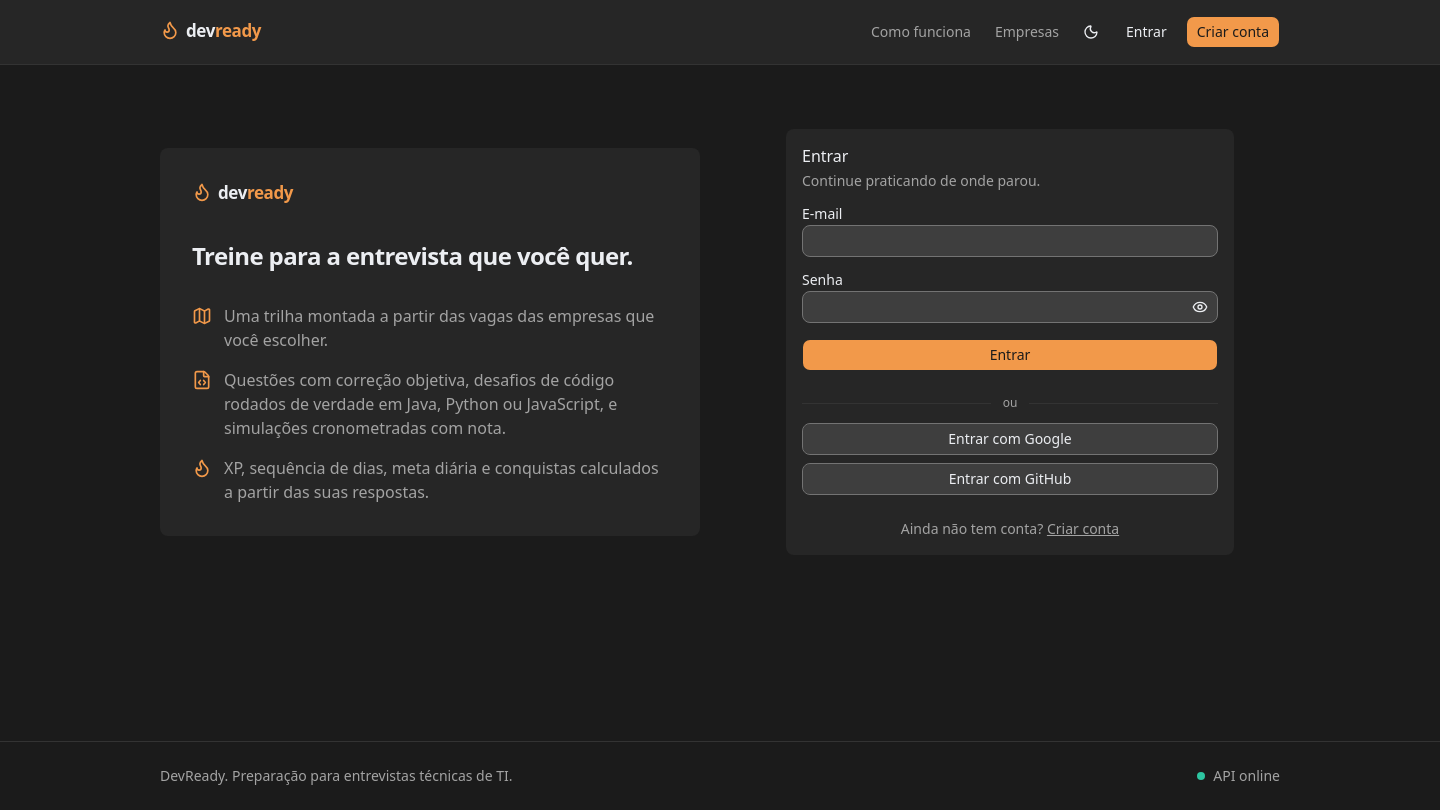
Test: LoginPage › avisa quando não consegue falar com o servidor
In the field labelled "E-mail": x=1010, y=241 [802, 225, 1218, 257], type "ana@example.com"
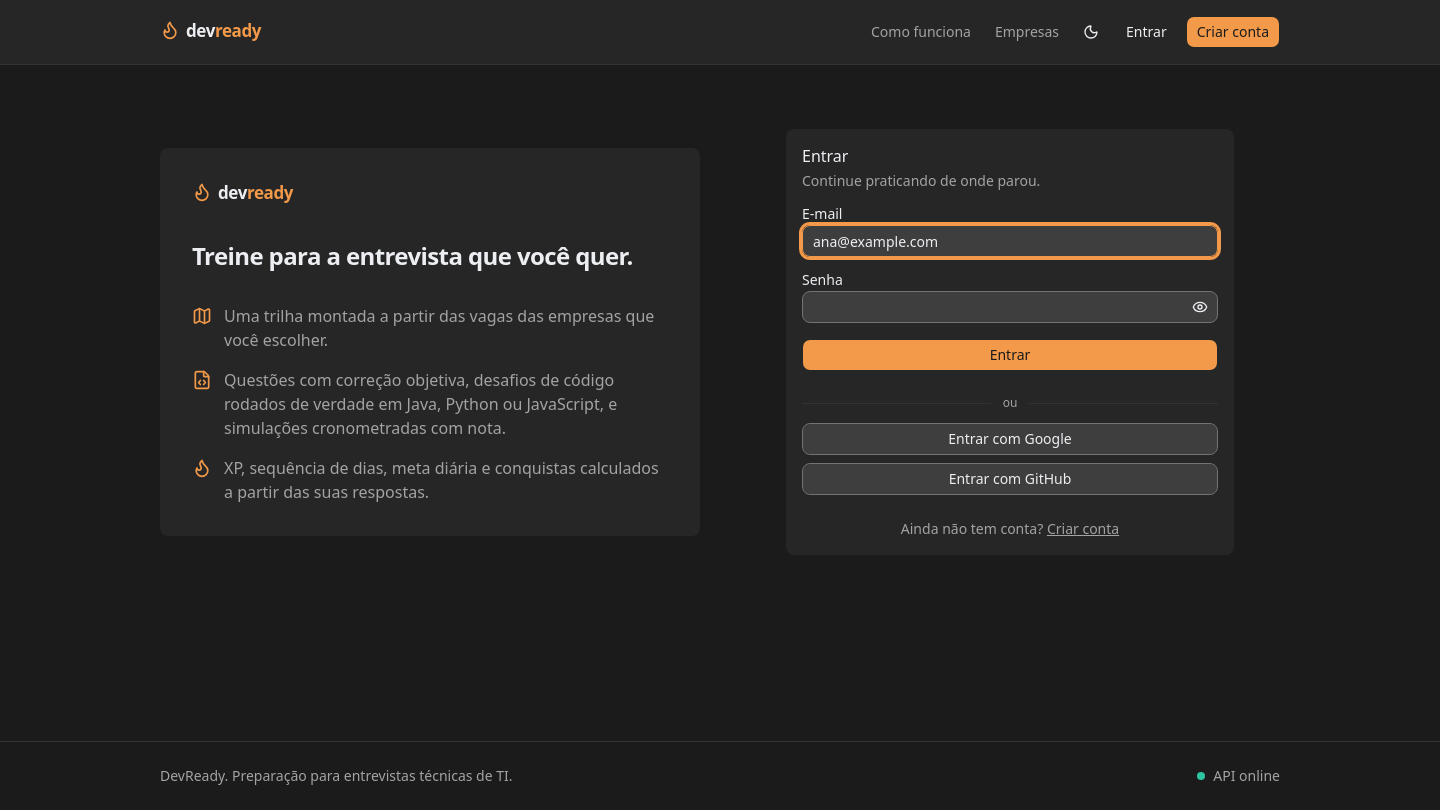
In the password field labelled "Senha": x=1010, y=307 [802, 291, 1218, 323], type "senha-forte"
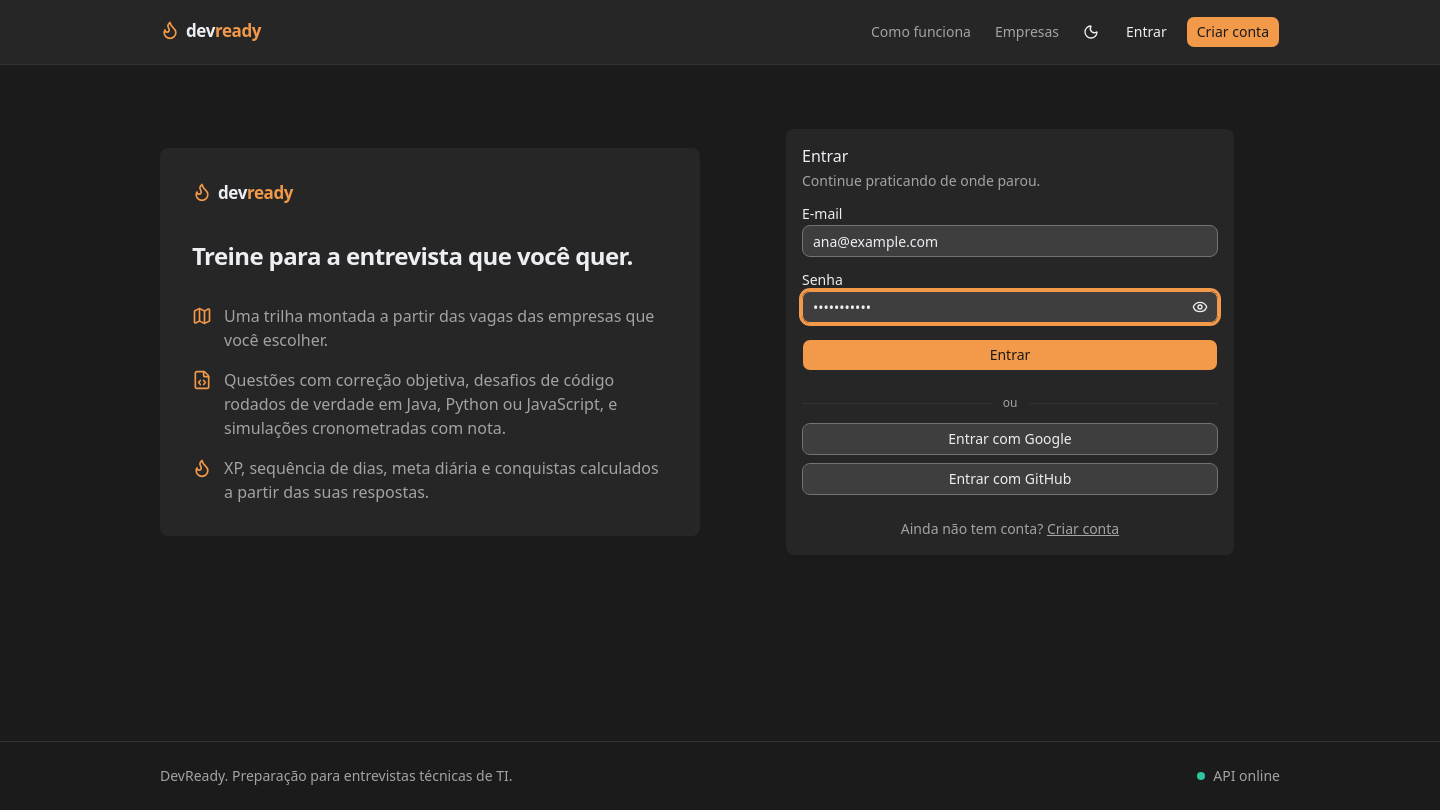
Click the button "Entrar": x=1010, y=355 [802, 339, 1218, 371]
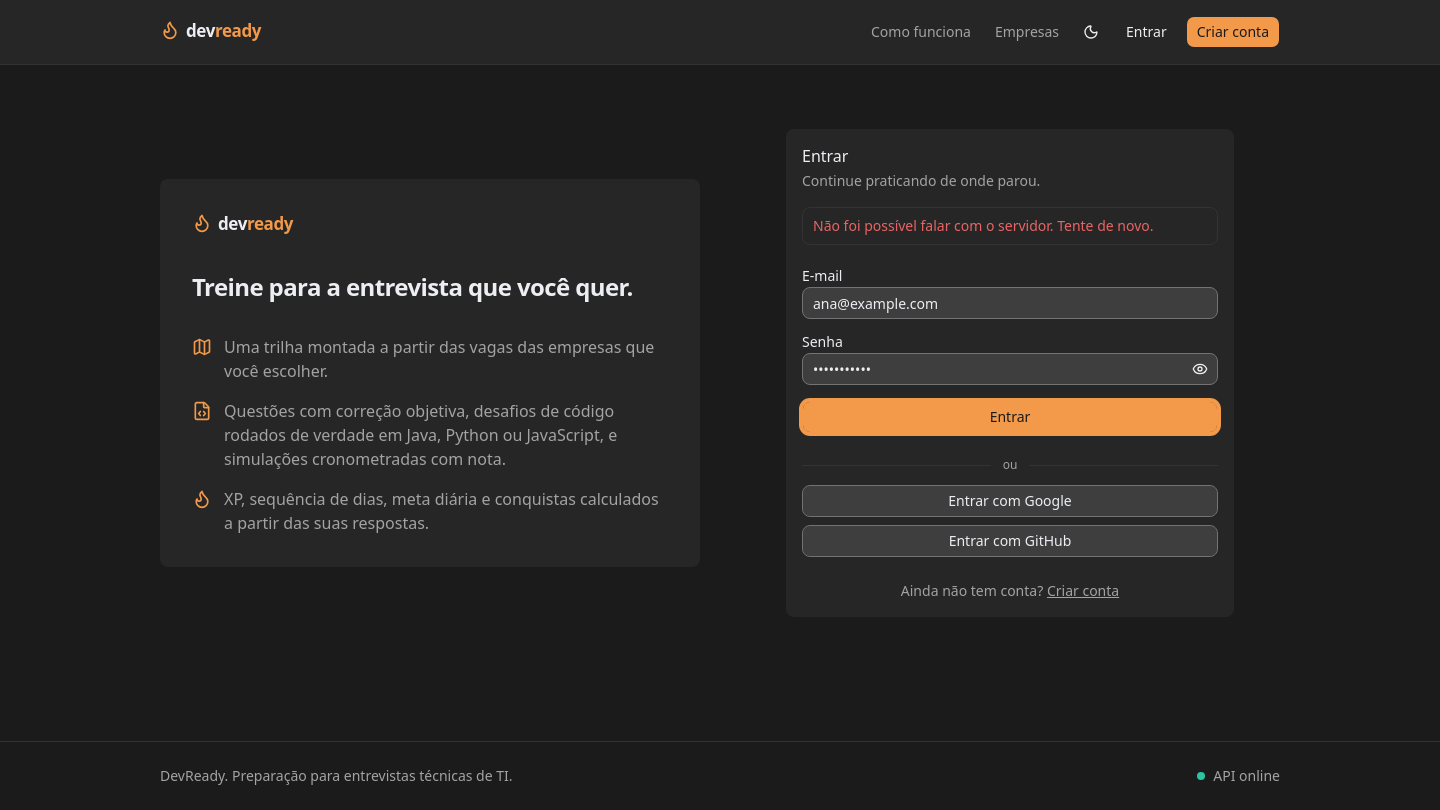
Now the message reads "Não foi possível falar com o servidor. Tente de novo.", box [813, 216, 1154, 235]
